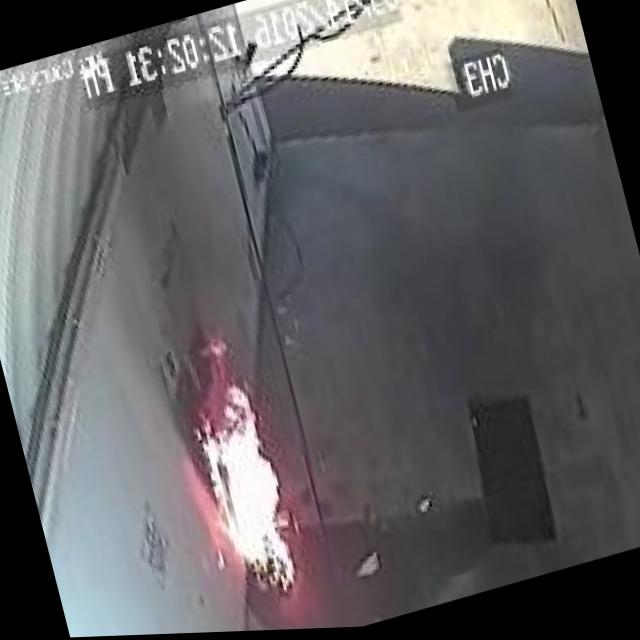fire: (158, 344, 320, 620)
